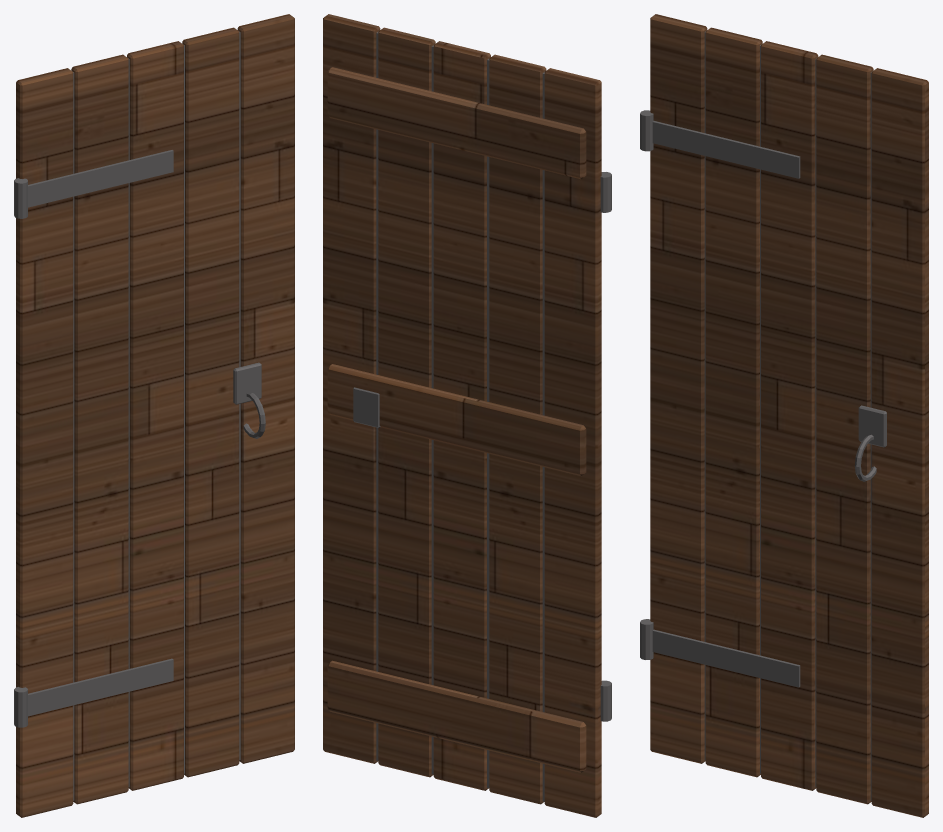
File: door_leaf_interior.glb
3 renders of one model, left to right at view 1: azimuth 30°, elevation 25°; view 2: azimuth 150°, elevation 25°; view 3: azimuth 330°, elevation 25°, orthographic.
Visible parts, largest first — view 1: door_leaf_interior_wood, door_leaf_interior_iron, door_leaf_interior_dark; view 2: door_leaf_interior_wood, door_leaf_interior_dark, door_leaf_interior_iron; view 3: door_leaf_interior_wood, door_leaf_interior_iron, door_leaf_interior_dark.
Boxes of the visible parts, box(x1,y1,x2,y2) form: door_leaf_interior_wood: box(16, 14, 294, 817); door_leaf_interior_iron: box(14, 150, 265, 727); door_leaf_interior_dark: box(73, 31, 240, 800); door_leaf_interior_wood: box(323, 14, 601, 817); door_leaf_interior_dark: box(376, 31, 544, 801); door_leaf_interior_iron: box(353, 172, 611, 721); door_leaf_interior_wood: box(650, 14, 928, 817); door_leaf_interior_iron: box(640, 110, 886, 687); door_leaf_interior_dark: box(704, 31, 872, 800).
Bounding box in the file's own units: 0.835 × 2.08 × 0.153.
Materials: 3 (1 with a texture image).
